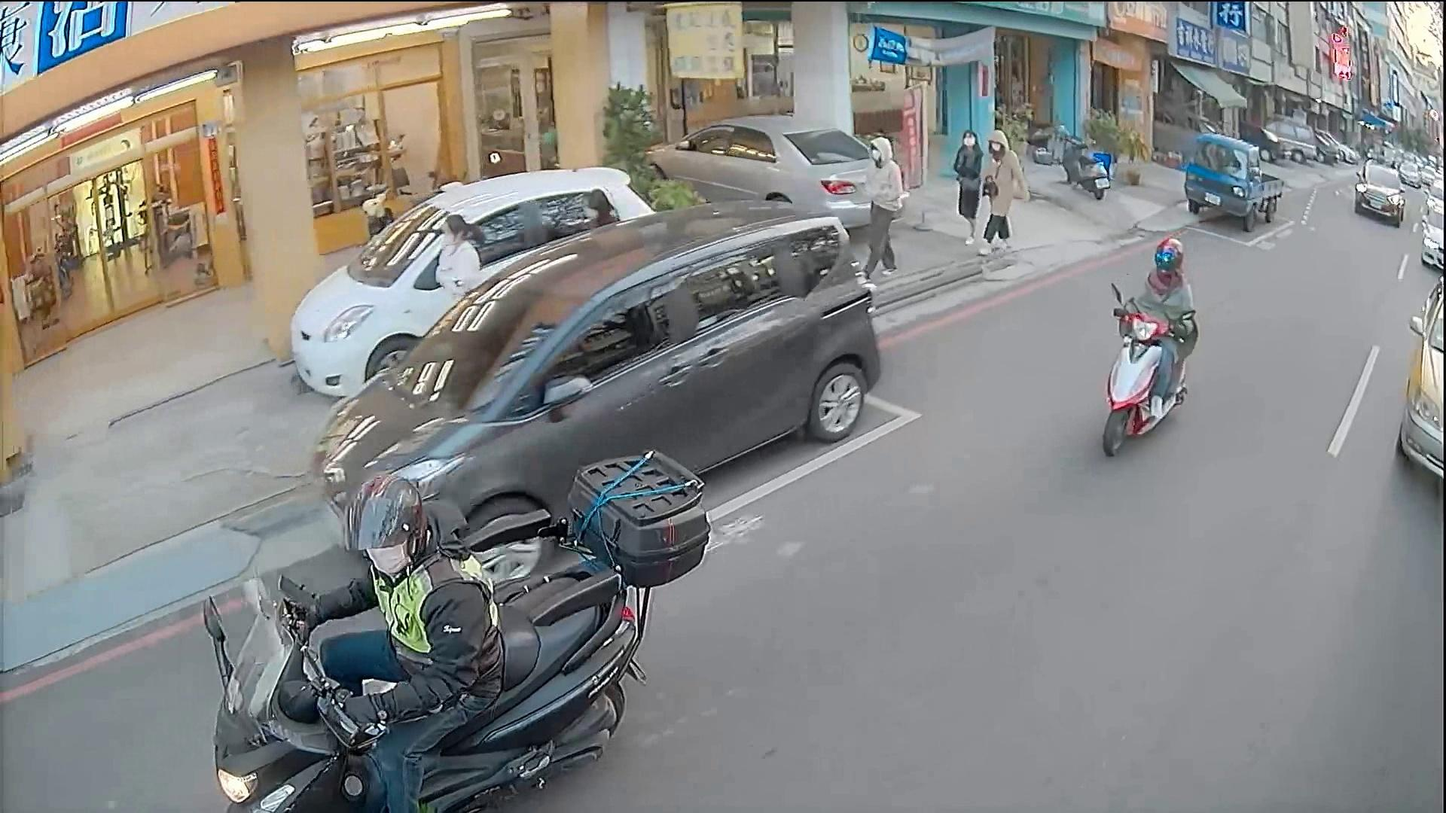person: (280, 456, 518, 812), (1106, 236, 1197, 425), (850, 130, 906, 281), (965, 130, 1027, 251), (428, 209, 484, 312), (949, 127, 986, 251), (578, 181, 620, 230)
